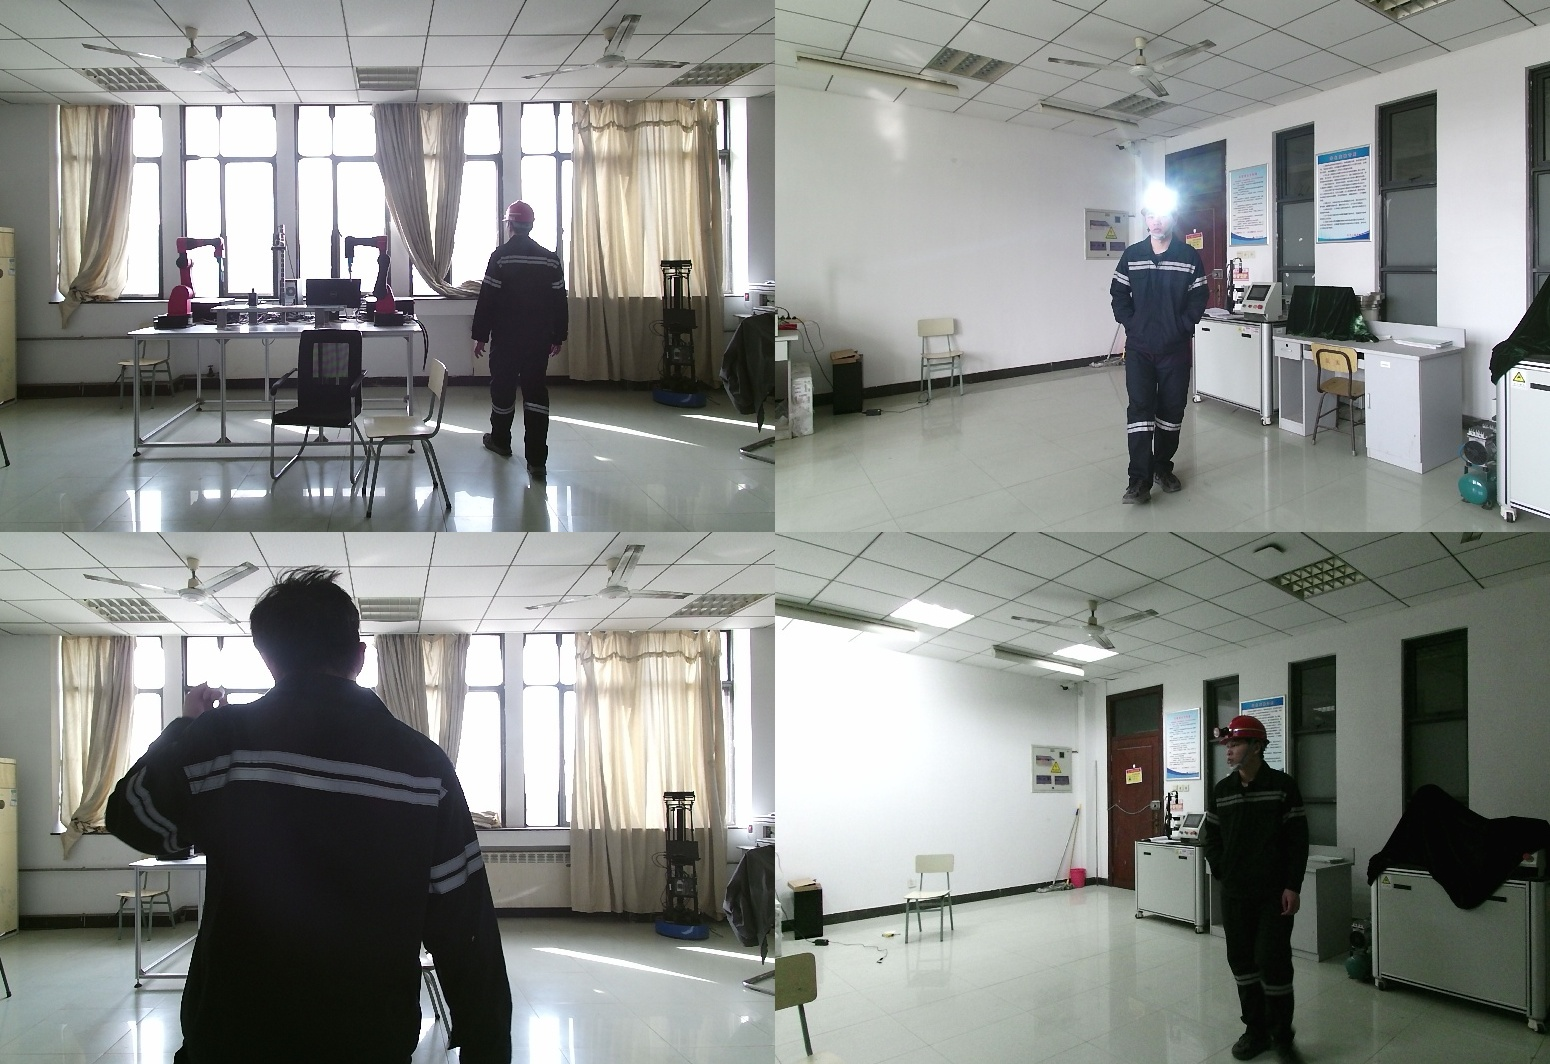person: (112, 573, 511, 1064), (1198, 714, 1332, 1064), (1113, 193, 1224, 503), (477, 201, 579, 488)
